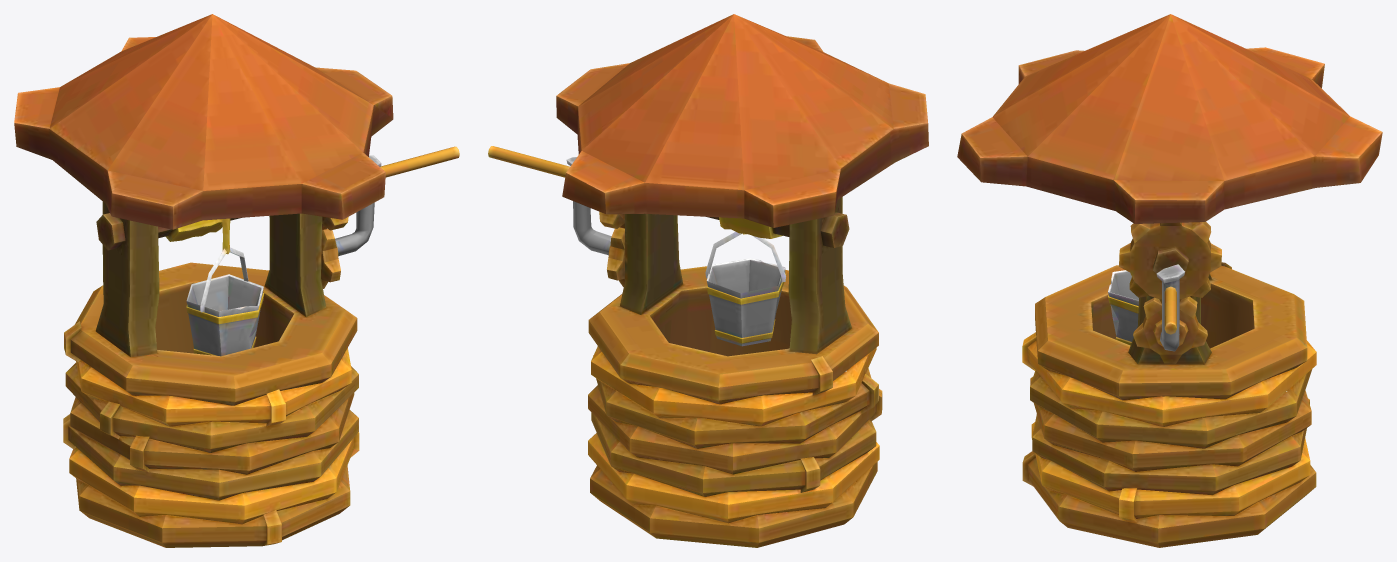
Rendered from obj_well01_base.gltf.
3 renders of one model, left to right at view 1: azimuth 30°, elevation 25°; view 2: azimuth 150°, elevation 25°; view 3: azimuth 270°, elevation 25°, orthographic.
Visible parts, largest first — view 1: obj_well01_base; view 2: obj_well01_base; view 3: obj_well01_base.
Part boxes in pixels (bbox=[...]): obj_well01_base: bbox=[14, 14, 459, 547]; obj_well01_base: bbox=[488, 14, 928, 547]; obj_well01_base: bbox=[957, 14, 1382, 547].
Size of what is drawn, in the model's own units: 1.3 by 1.52 by 1.23.
1 material, 1 textured.
